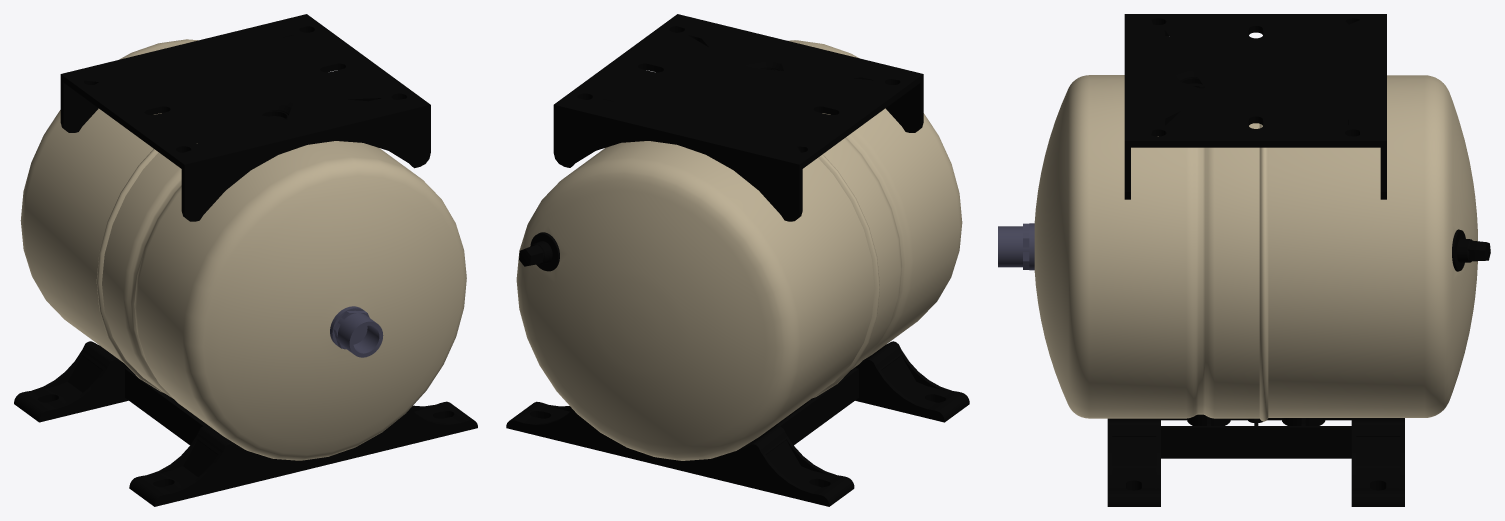
File: 19lt-sabit-tank-yatay.obj
The picture shows the model from 3 angles, left to right: view 1: azimuth 30°, elevation 25°; view 2: azimuth 150°, elevation 25°; view 3: azimuth 270°, elevation 25°; orthographic projection. The views are drawn at different scales.
Parts seen in each view (by area): view 1: 19lt-sabit-yatay-tank.001, 19lt-sabit-yatay-tank, 19lt-sabit-yatay-tank.007, 19lt-sabit-yatay-tank.015, 19lt-sabit-yatay-tank.008, 19lt-sabit-yatay-tank.006; view 2: 19lt-sabit-yatay-tank.007, 19lt-sabit-yatay-tank, 19lt-sabit-yatay-tank.001, 19lt-sabit-yatay-tank.015, 19lt-sabit-yatay-tank.006, 19lt-sabit-yatay-tank.002; view 3: 19lt-sabit-yatay-tank.001, 19lt-sabit-yatay-tank.007, 19lt-sabit-yatay-tank, 19lt-sabit-yatay-tank.015, 19lt-sabit-yatay-tank.006, 19lt-sabit-yatay-tank.008, 19lt-sabit-yatay-tank.002.
Boxes of the visible parts, x1=… form: 19lt-sabit-yatay-tank.001: x1=102, y1=141, x2=466, y2=460; 19lt-sabit-yatay-tank: x1=60, y1=14, x2=430, y2=221; 19lt-sabit-yatay-tank.007: x1=20, y1=39, x2=197, y2=363; 19lt-sabit-yatay-tank.015: x1=14, y1=341, x2=477, y2=506; 19lt-sabit-yatay-tank.008: x1=330, y1=306, x2=383, y2=357; 19lt-sabit-yatay-tank.006: x1=96, y1=149, x2=163, y2=392; 19lt-sabit-yatay-tank.007: x1=516, y1=141, x2=874, y2=460; 19lt-sabit-yatay-tank: x1=553, y1=14, x2=923, y2=221; 19lt-sabit-yatay-tank.001: x1=788, y1=40, x2=962, y2=369; 19lt-sabit-yatay-tank.015: x1=506, y1=341, x2=969, y2=506; 19lt-sabit-yatay-tank.006: x1=812, y1=154, x2=879, y2=398; 19lt-sabit-yatay-tank.002: x1=519, y1=232, x2=559, y2=271; 19lt-sabit-yatay-tank.001: x1=1034, y1=75, x2=1259, y2=418; 19lt-sabit-yatay-tank.007: x1=1268, y1=75, x2=1477, y2=417; 19lt-sabit-yatay-tank: x1=1124, y1=14, x2=1386, y2=199; 19lt-sabit-yatay-tank.015: x1=1107, y1=414, x2=1404, y2=506; 19lt-sabit-yatay-tank.006: x1=1259, y1=124, x2=1268, y2=421; 19lt-sabit-yatay-tank.008: x1=998, y1=223, x2=1034, y2=270; 19lt-sabit-yatay-tank.002: x1=1452, y1=229, x2=1490, y2=271.
Size of the model in its own units: 21.86 by 21.12 by 27.28.
